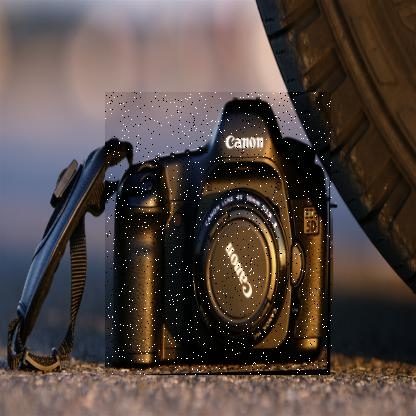Camera: (107, 93, 335, 377)
